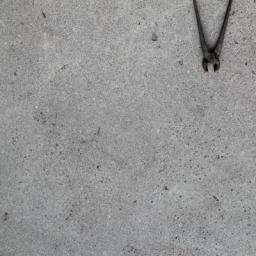FOD: (190, 1, 238, 75)
